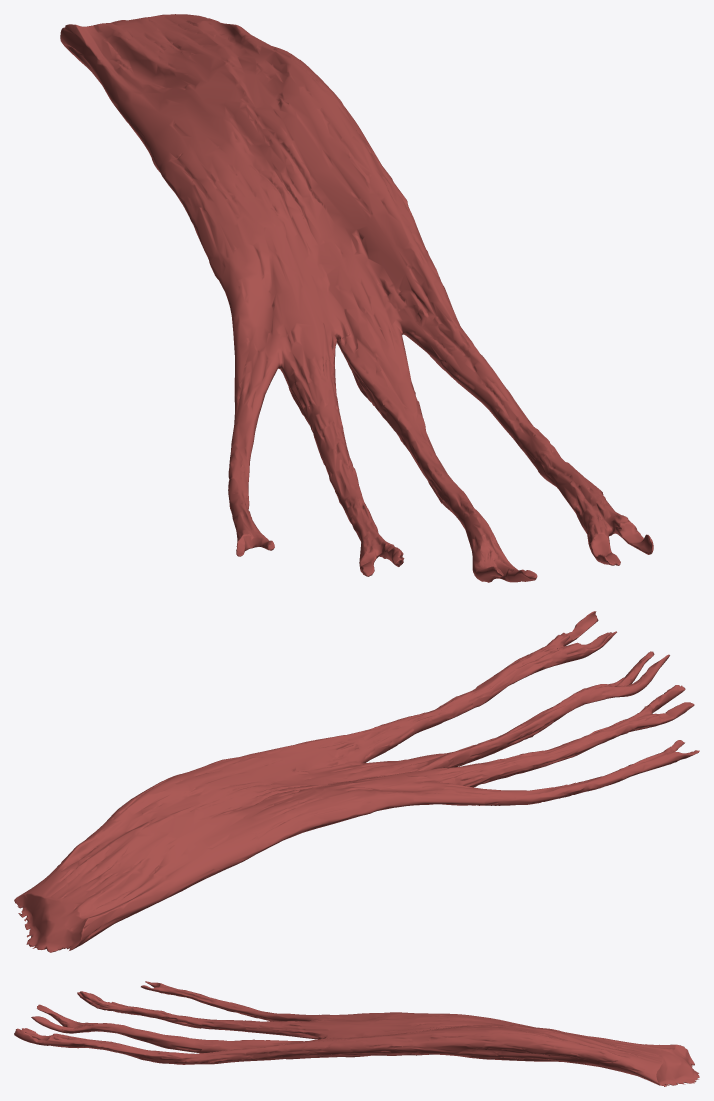
File: FMA37461.glb
The picture shows the model from 3 angles, top to bottom: view 1: azimuth 30°, elevation 25°; view 2: azimuth 150°, elevation 25°; view 3: azimuth 270°, elevation 25°; orthographic projection. The views are drawn at different scales.
Parts seen in each view (by area): view 1: FMA37461; view 2: FMA37461; view 3: FMA37461.
Boxes of the visible parts, x1,y1,x2,y2 form: FMA37461: (60, 14, 653, 582); FMA37461: (14, 611, 699, 952); FMA37461: (14, 981, 699, 1086).
Bounding box in the file's own units: 0.0758 × 0.0195 × 0.1823.
